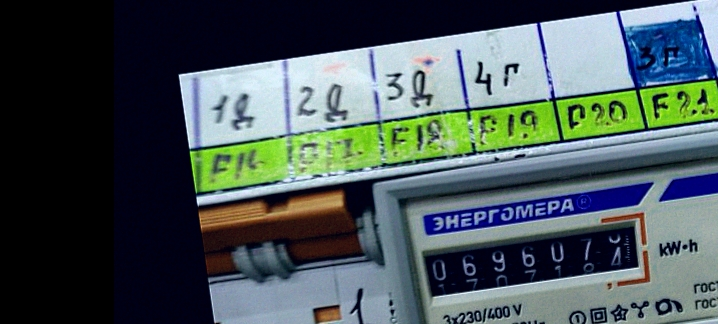0: (430, 255, 451, 281), (549, 237, 567, 263)
4: (607, 243, 627, 269)
6: (519, 242, 540, 268), (460, 251, 480, 277)
7: (579, 234, 597, 262)
9: (490, 247, 509, 273)
screen: (408, 204, 658, 312)
